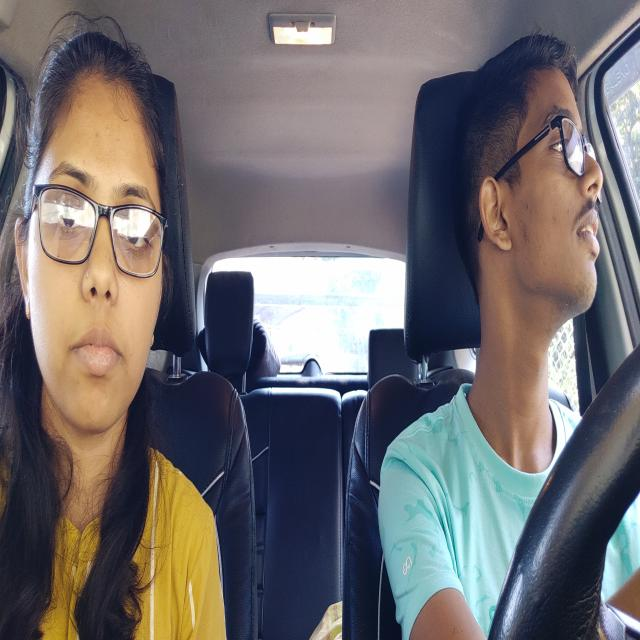LeftRight: (462, 53, 606, 315)
person: (27, 68, 167, 432)
